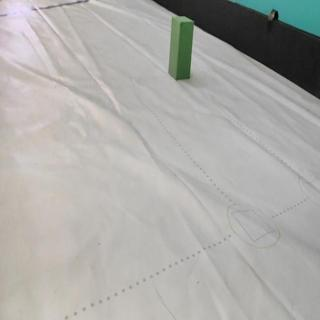greenbox: (165, 15, 196, 81)
